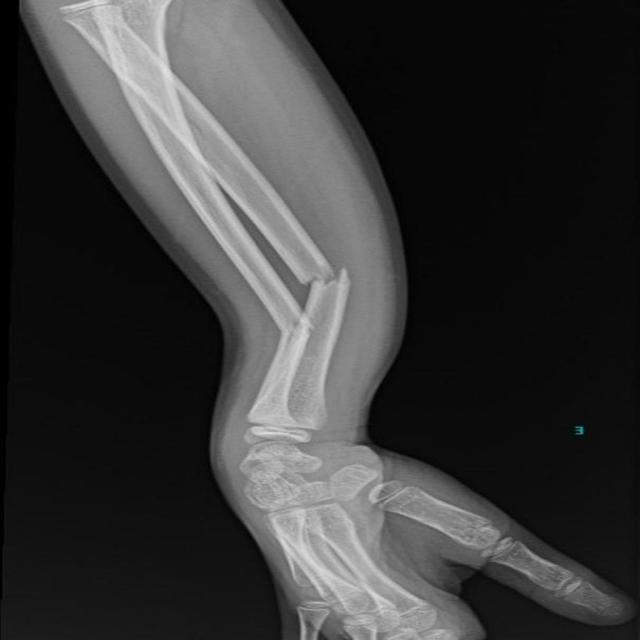Transverse Displaced: (288, 260, 363, 293), (272, 310, 324, 344)
